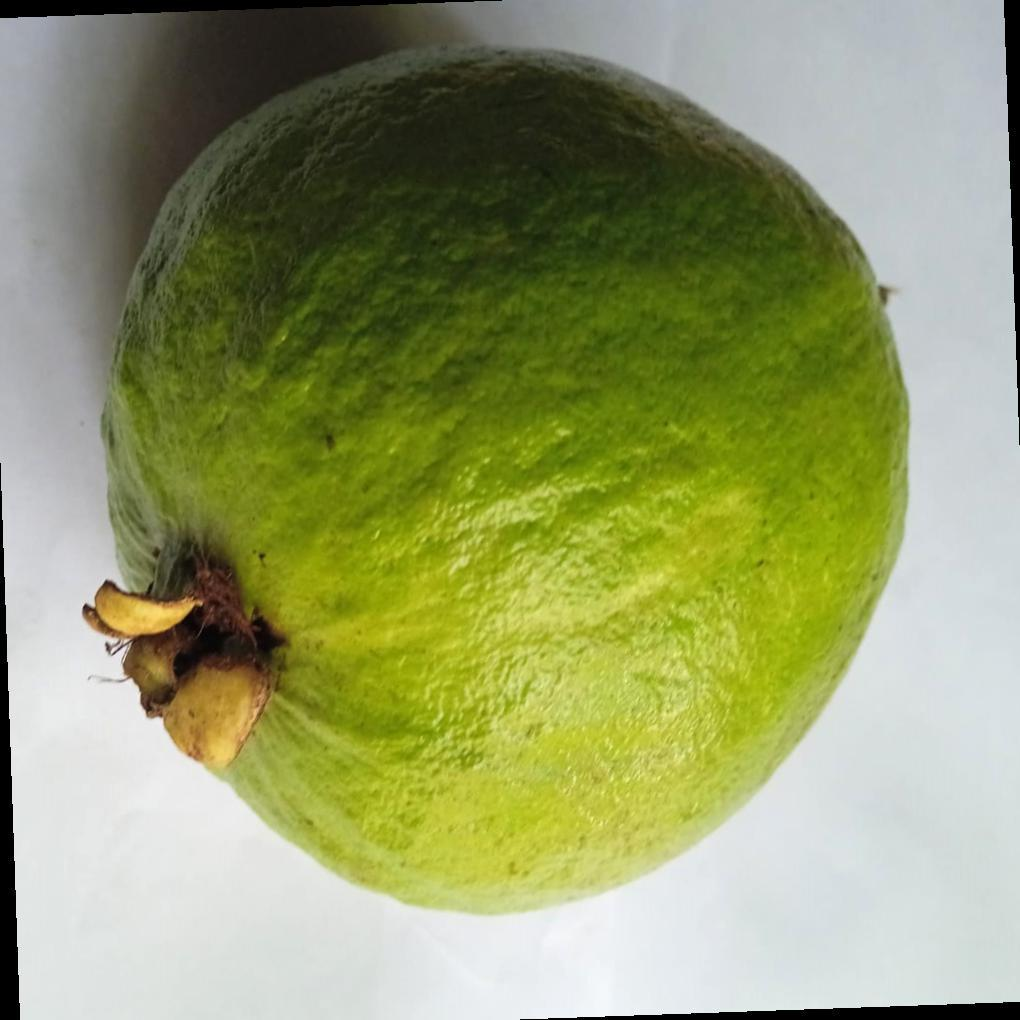FreshGuava: (83, 44, 913, 921)
